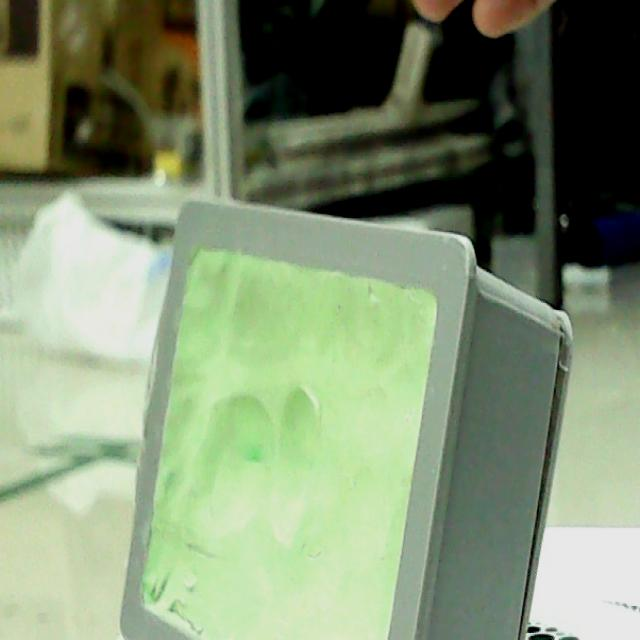block: (111, 182, 578, 640)
